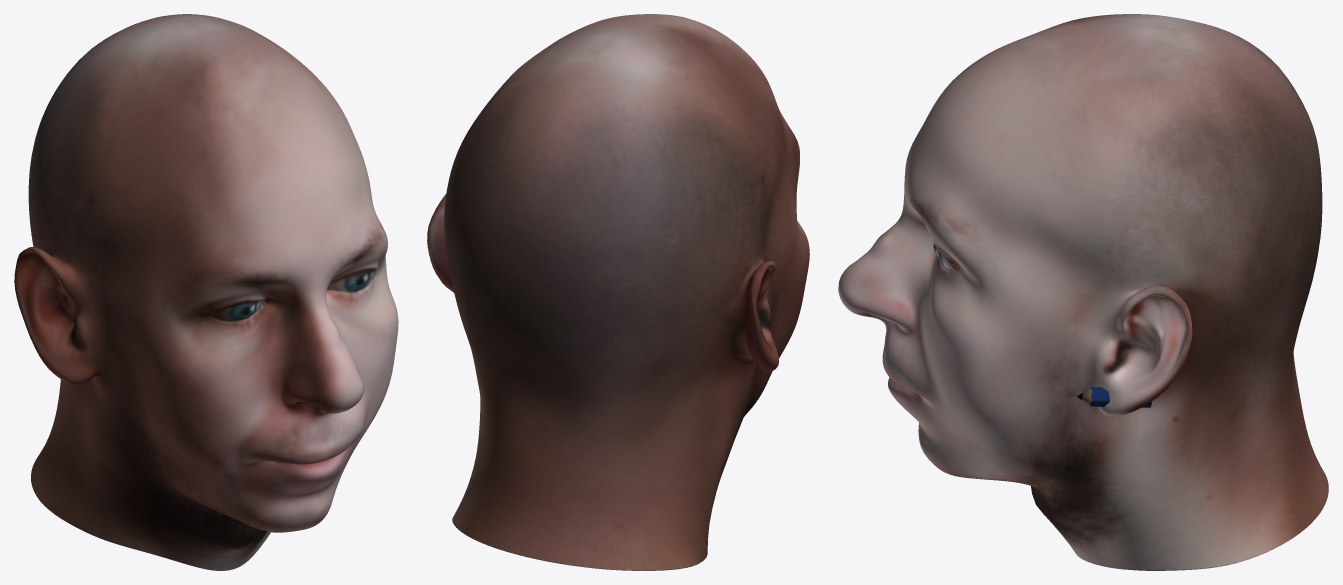
The model's file is oliver2.glb.
3 views of the same model, side by side, from view 1: azimuth 30°, elevation 25°; view 2: azimuth 150°, elevation 25°; view 3: azimuth 270°, elevation 25° (orthographic). The views are drawn at different scales.
Parts seen in each view (by area): view 1: FaceBuilderHead; view 2: FaceBuilderHead; view 3: FaceBuilderHead.
Boxes of the visible parts, x1,y1,x2,y2 form: FaceBuilderHead: (14, 14, 398, 570); FaceBuilderHead: (427, 14, 809, 570); FaceBuilderHead: (838, 14, 1328, 570).
Size of the model in its own units: 1.83 by 2.72 by 2.3.
6 materials, 2 textured.
